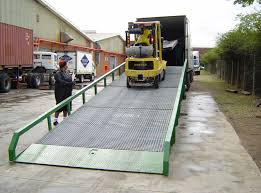Pallet Jack: (124, 21, 166, 89)
Yard Ramp: (7, 61, 187, 177)
